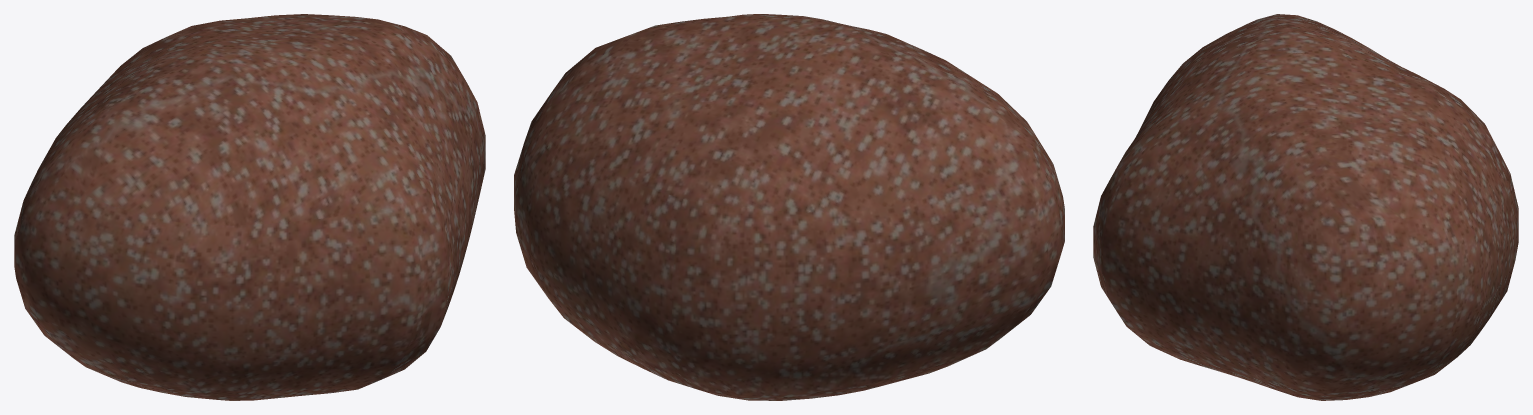
File: plunge_boulder_06.glb
3 views of the same model, side by side, from view 1: azimuth 30°, elevation 25°; view 2: azimuth 150°, elevation 25°; view 3: azimuth 270°, elevation 25° (orthographic). The views are drawn at different scales.
Parts seen in each view (by area): view 1: plunge_boulder_06; view 2: plunge_boulder_06; view 3: plunge_boulder_06.
Boxes of the visible parts, x1,y1,x2,y2 form: plunge_boulder_06: (14, 14, 485, 400); plunge_boulder_06: (514, 14, 1064, 400); plunge_boulder_06: (1093, 14, 1518, 400).
Bounding box in the file's own units: 0.078 × 0.0509 × 0.0645.
Materials: 1 (1 with a texture image).
